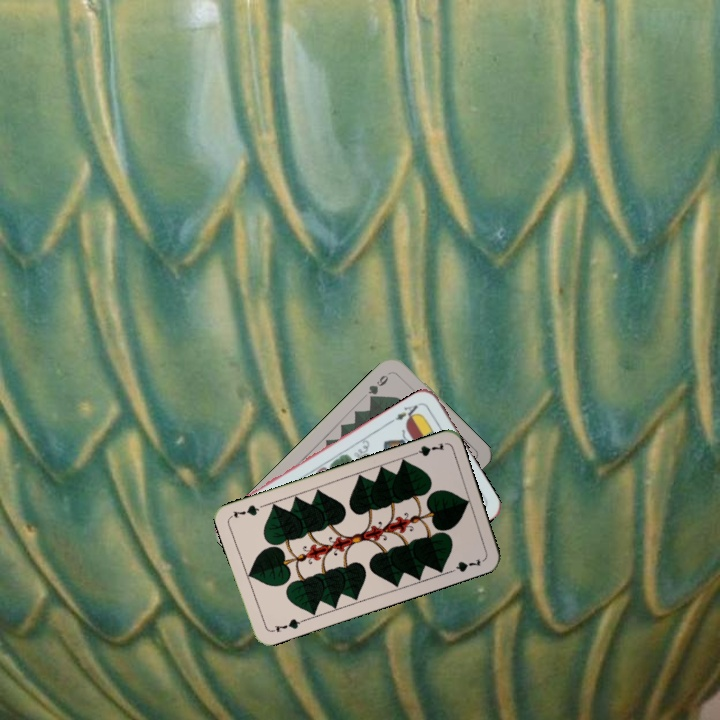EA: (387, 398, 424, 425)
G7: (407, 439, 447, 459), (267, 615, 307, 635)
G9: (364, 368, 393, 403)
